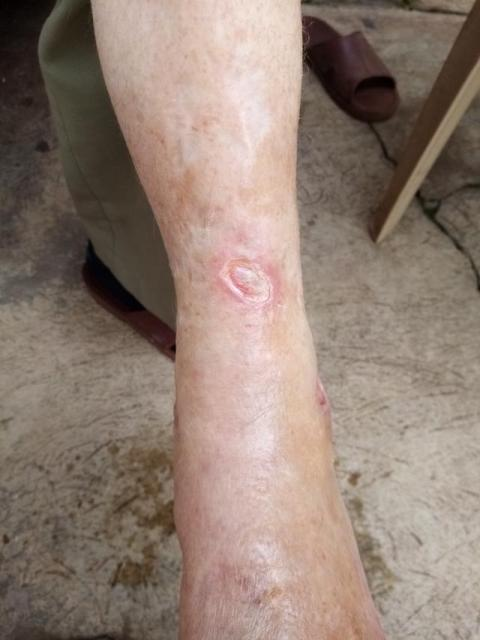wound: (221, 257, 272, 303)
